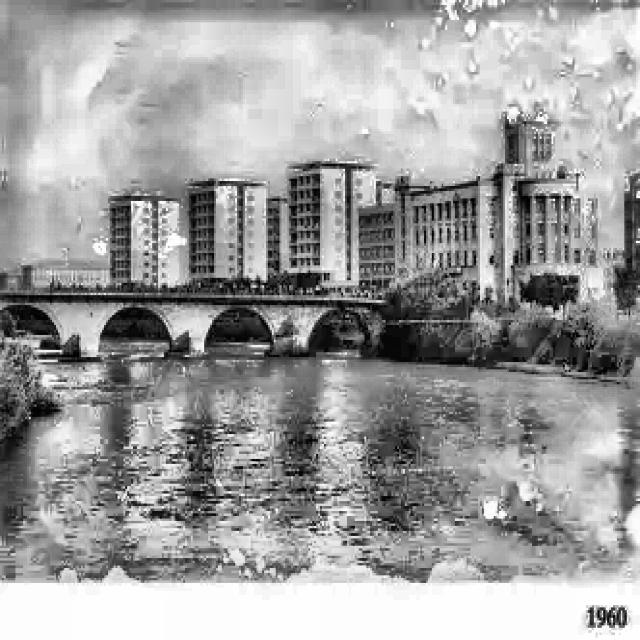stone bridge: (0, 276, 404, 388)
